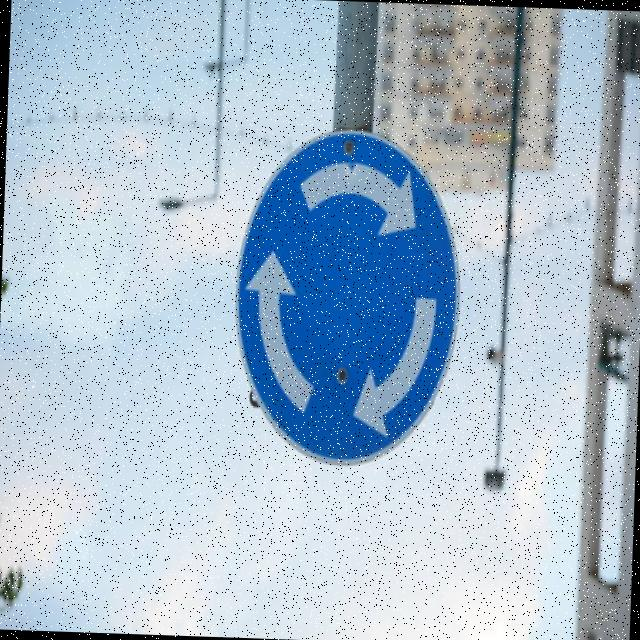round_about: (230, 118, 468, 474)
